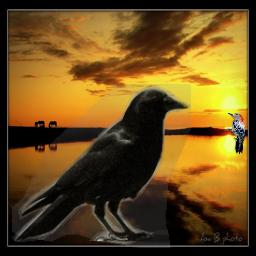Crow: (12, 84, 191, 248)
Woodpecker: (224, 113, 245, 154)
